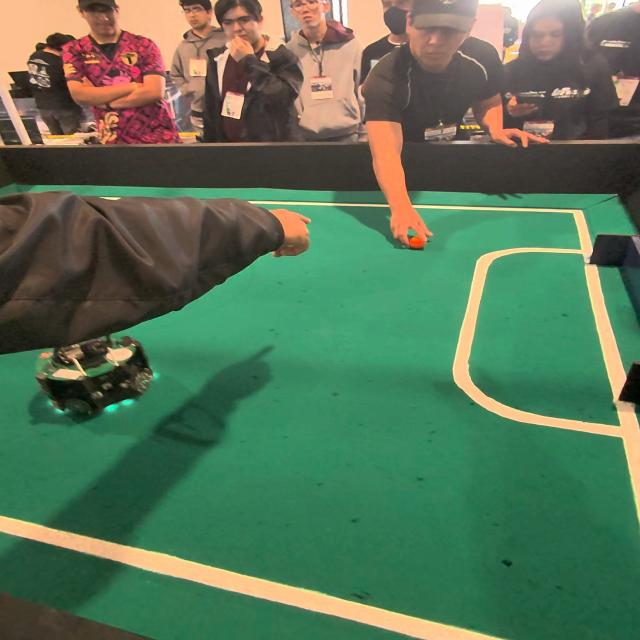Robot: (28, 328, 167, 431)
pelota: (405, 238, 429, 254)
